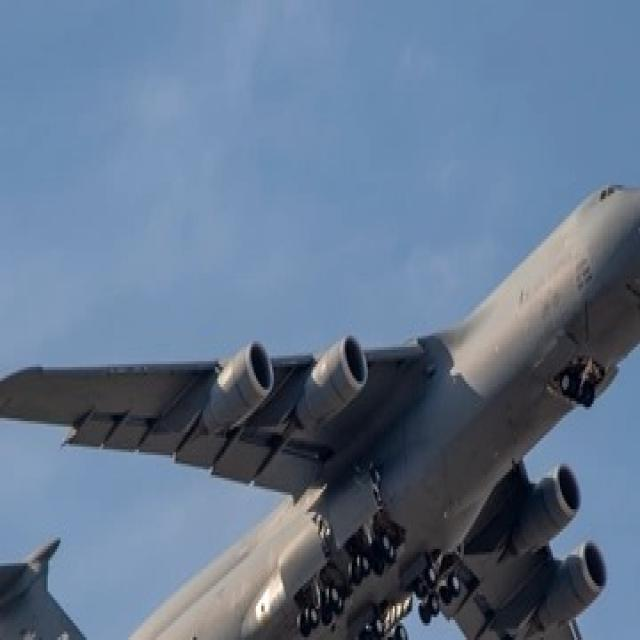C5: (3, 87, 640, 640)
